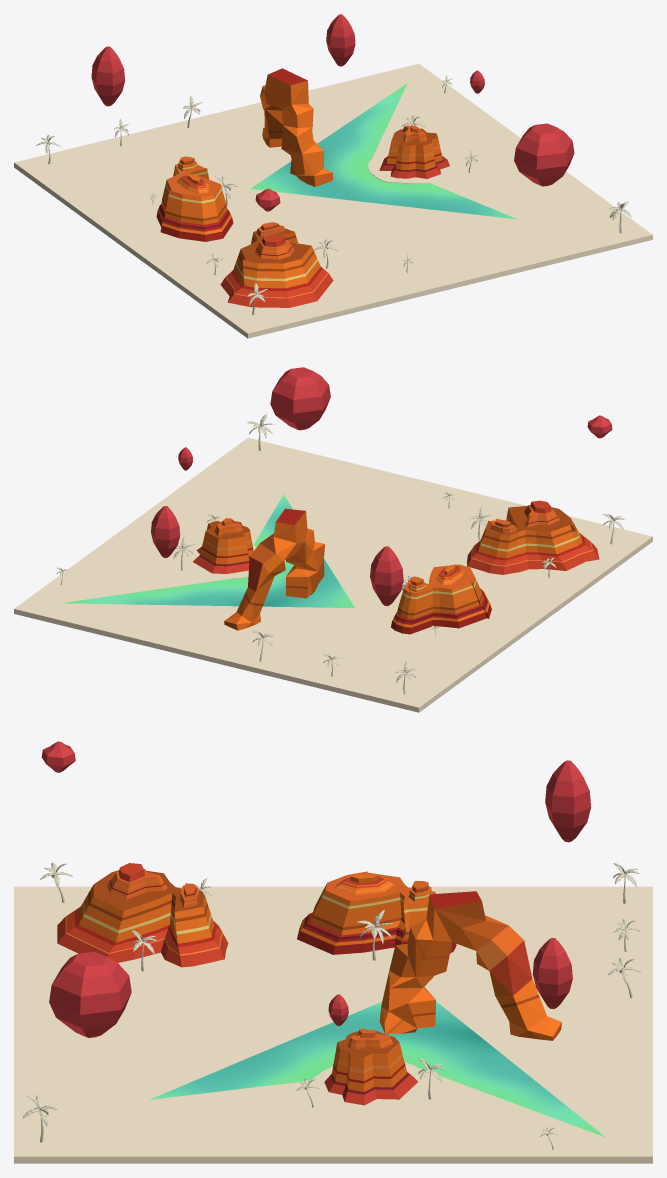
Rendered from Central_park_D7.fbx.
3 renders of one model, top to bottom at view 1: azimuth 30°, elevation 25°; view 2: azimuth 150°, elevation 25°; view 3: azimuth 270°, elevation 25°, orthographic. The views are drawn at different scales.
Visible parts, largest first — view 1: Plane.1793; view 2: Plane.1793; view 3: Plane.1793.
Boxes of the visible parts, bbox=[...] form: Plane.1793: bbox=[14, 14, 652, 338]; Plane.1793: bbox=[14, 367, 652, 712]; Plane.1793: bbox=[14, 741, 652, 1163].
Size of the model in its own units: 12353 by 3746 by 12353.
5 materials, 4 textured.
